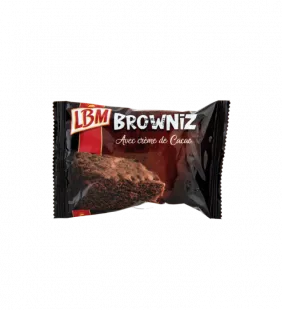LBM: (45, 92, 235, 227)
